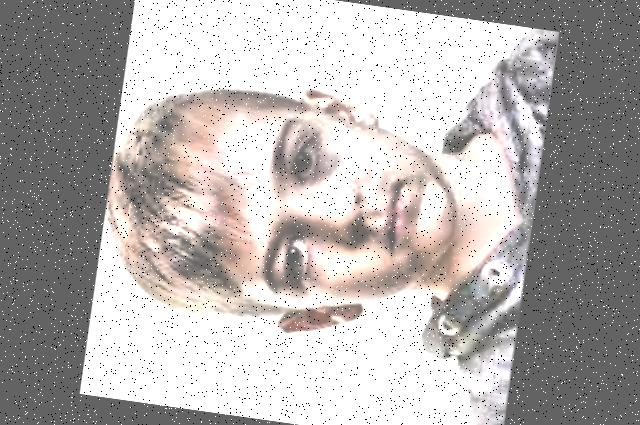neutral: (168, 79, 477, 342)
